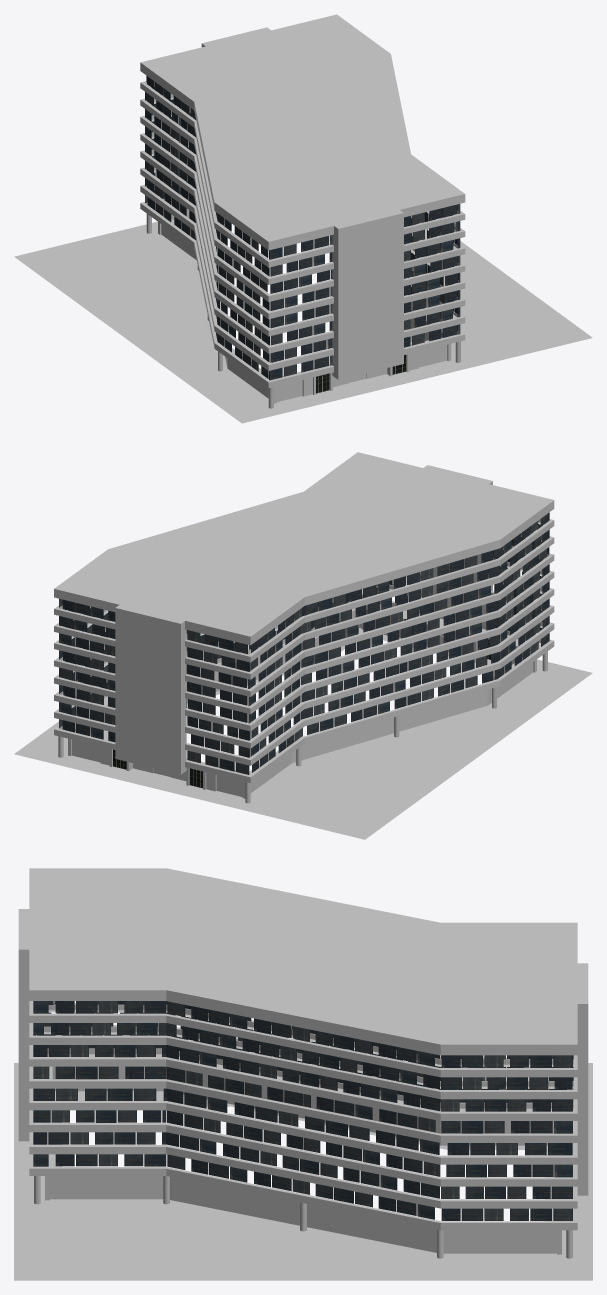
3 views of the same model, one above another, from view 1: azimuth 30°, elevation 25°; view 2: azimuth 150°, elevation 25°; view 3: azimuth 270°, elevation 25° (orthographic). The views are drawn at different scales.
Parts seen in each view (by area): view 1: M-007; view 2: M-007; view 3: M-007.
Boxes of the visible parts, bbox=[...] form: M-007: bbox=[14, 14, 592, 423]; M-007: bbox=[14, 452, 592, 839]; M-007: bbox=[14, 868, 592, 1280].
Size of what is drawn, in the model's own units: 64 by 29.5 by 72.
